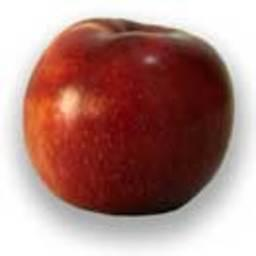apple: (23, 18, 235, 215)
